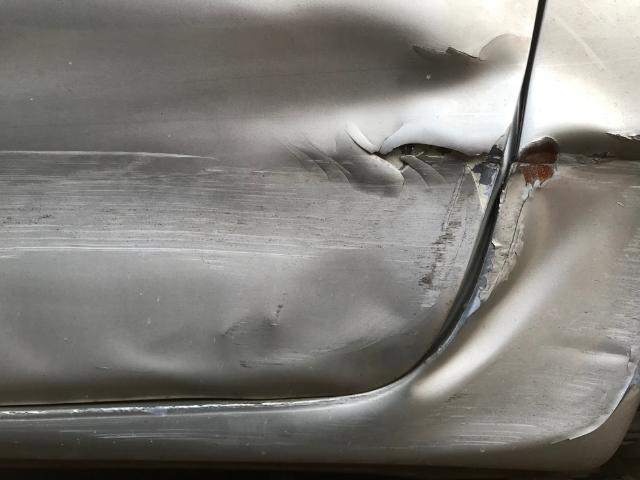dent: (0, 10, 528, 375), (426, 129, 640, 441)
scratch: (63, 416, 375, 447), (358, 404, 502, 451)
